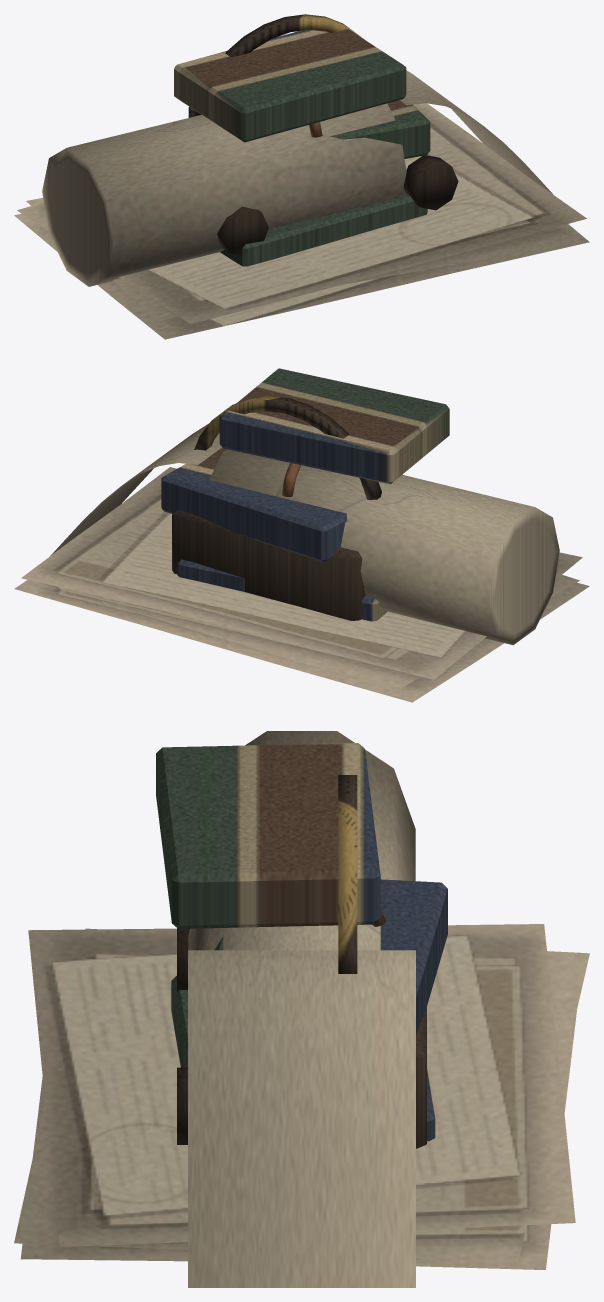
File: props-musee.glb
3 renders of one model, top to bottom at view 1: azimuth 30°, elevation 25°; view 2: azimuth 150°, elevation 25°; view 3: azimuth 270°, elevation 25°, orthographic. The views are drawn at different scales.
Parts seen in each view (by area): view 1: prop_maproll, prop_docstack, prop_books, prop_radio; view 2: prop_docstack, prop_maproll, prop_books, prop_radio; view 3: prop_docstack, prop_maproll, prop_books, prop_radio.
Part boxes in pixels (left/top/right/bottom): prop_maproll: left=42, top=70, right=552, bottom=286; prop_docstack: left=14, top=103, right=589, bottom=339; prop_books: left=174, top=29, right=430, bottom=266; prop_radio: left=191, top=14, right=458, bottom=255; prop_docstack: left=14, top=467, right=589, bottom=702; prop_maproll: left=50, top=423, right=559, bottom=645; prop_books: left=161, top=368, right=449, bottom=621; prop_radio: left=172, top=396, right=381, bottom=620; prop_docstack: left=14, top=924, right=589, bottom=1269; prop_maproll: left=188, top=731, right=415, bottom=1287; prop_books: left=156, top=743, right=447, bottom=1141; prop_radio: left=177, top=775, right=426, bottom=1148.
Bounding box in the file's own units: 0.26 × 0.1123 × 0.1818.
Materials: 1 (1 with a texture image).
